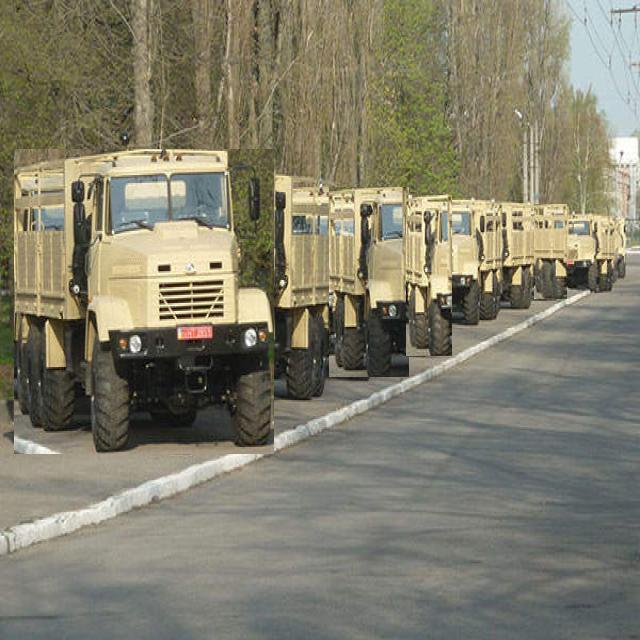truck: (14, 150, 274, 454), (329, 187, 409, 377), (274, 174, 335, 398), (406, 195, 451, 356), (450, 199, 502, 323), (567, 213, 625, 291), (501, 203, 536, 309), (534, 205, 567, 299)
